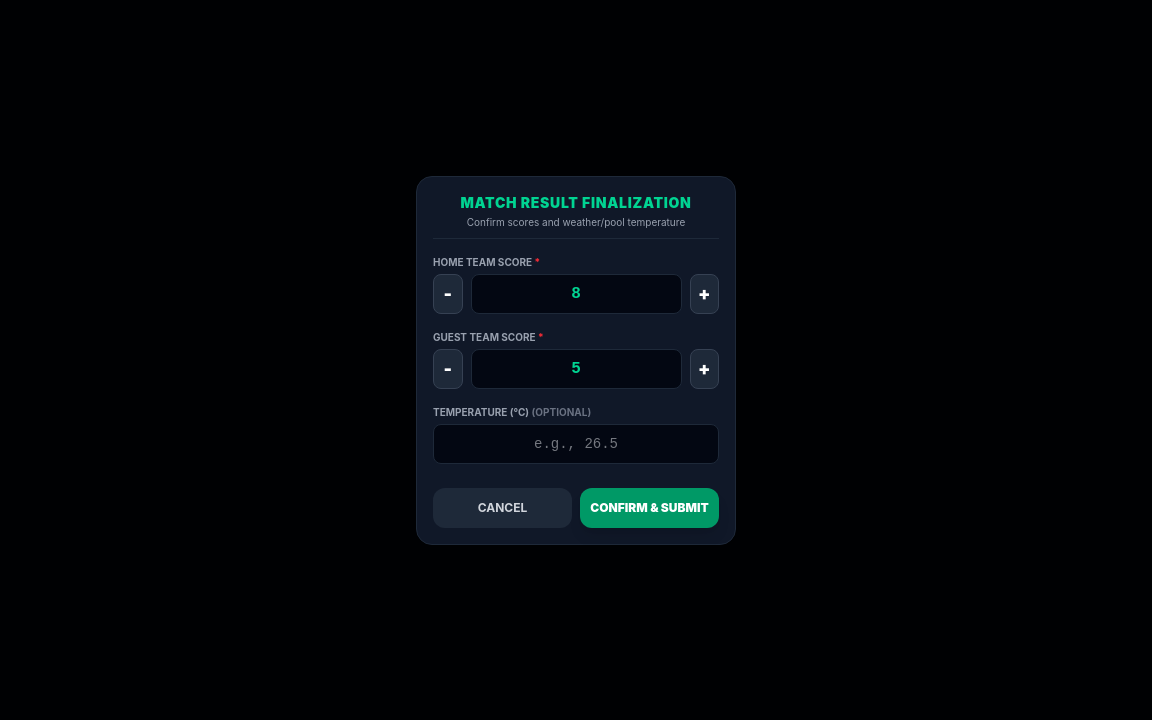
Test: MatchResultModal Component › should display error message alert when finalizeMatch rejects due to match lock
What coordinates should you click on to do the following:
click the button "Confirm & Submit"
I would click on:
 (650, 508)
Its box is x1=580 y1=488 x2=719 y2=528.
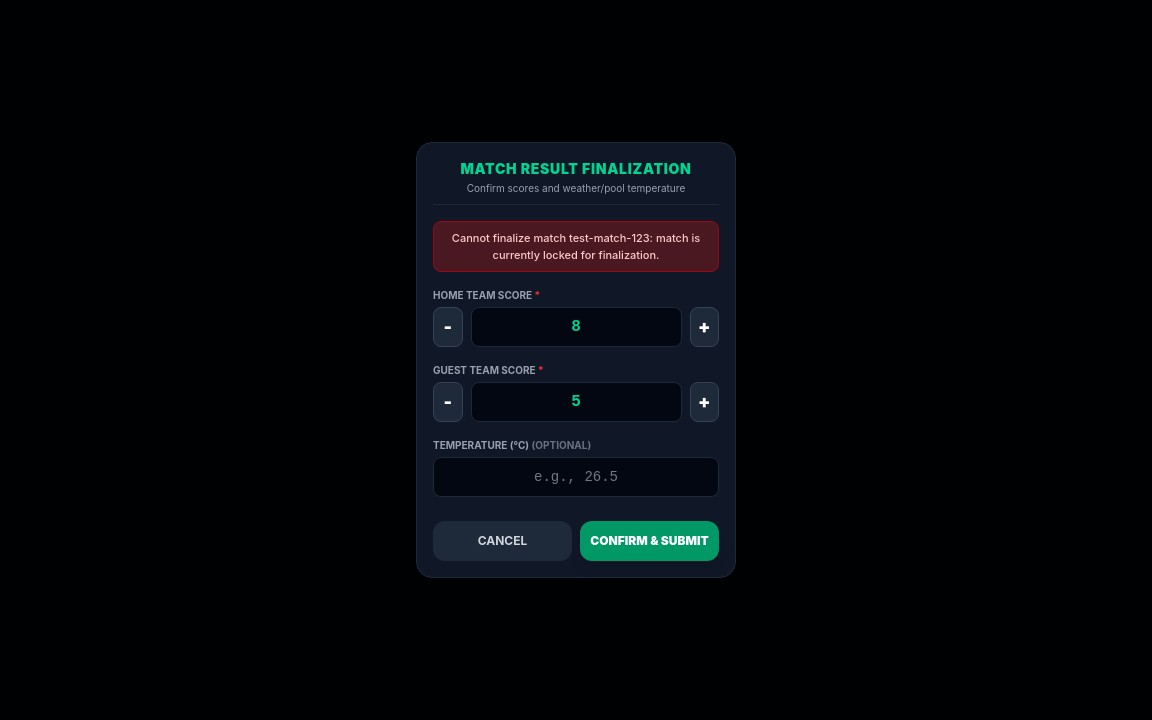
expect the message shows "Cannot finalize match test-match-123: match is currently locked for finalization.": met, box x1=452 y1=231 x2=700 y2=262
